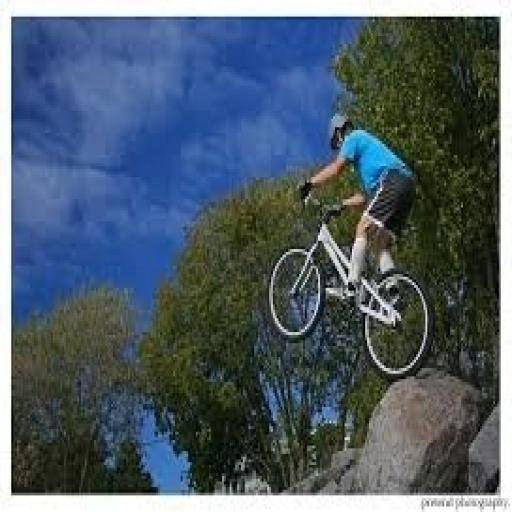cycling: (296, 108, 420, 315)
